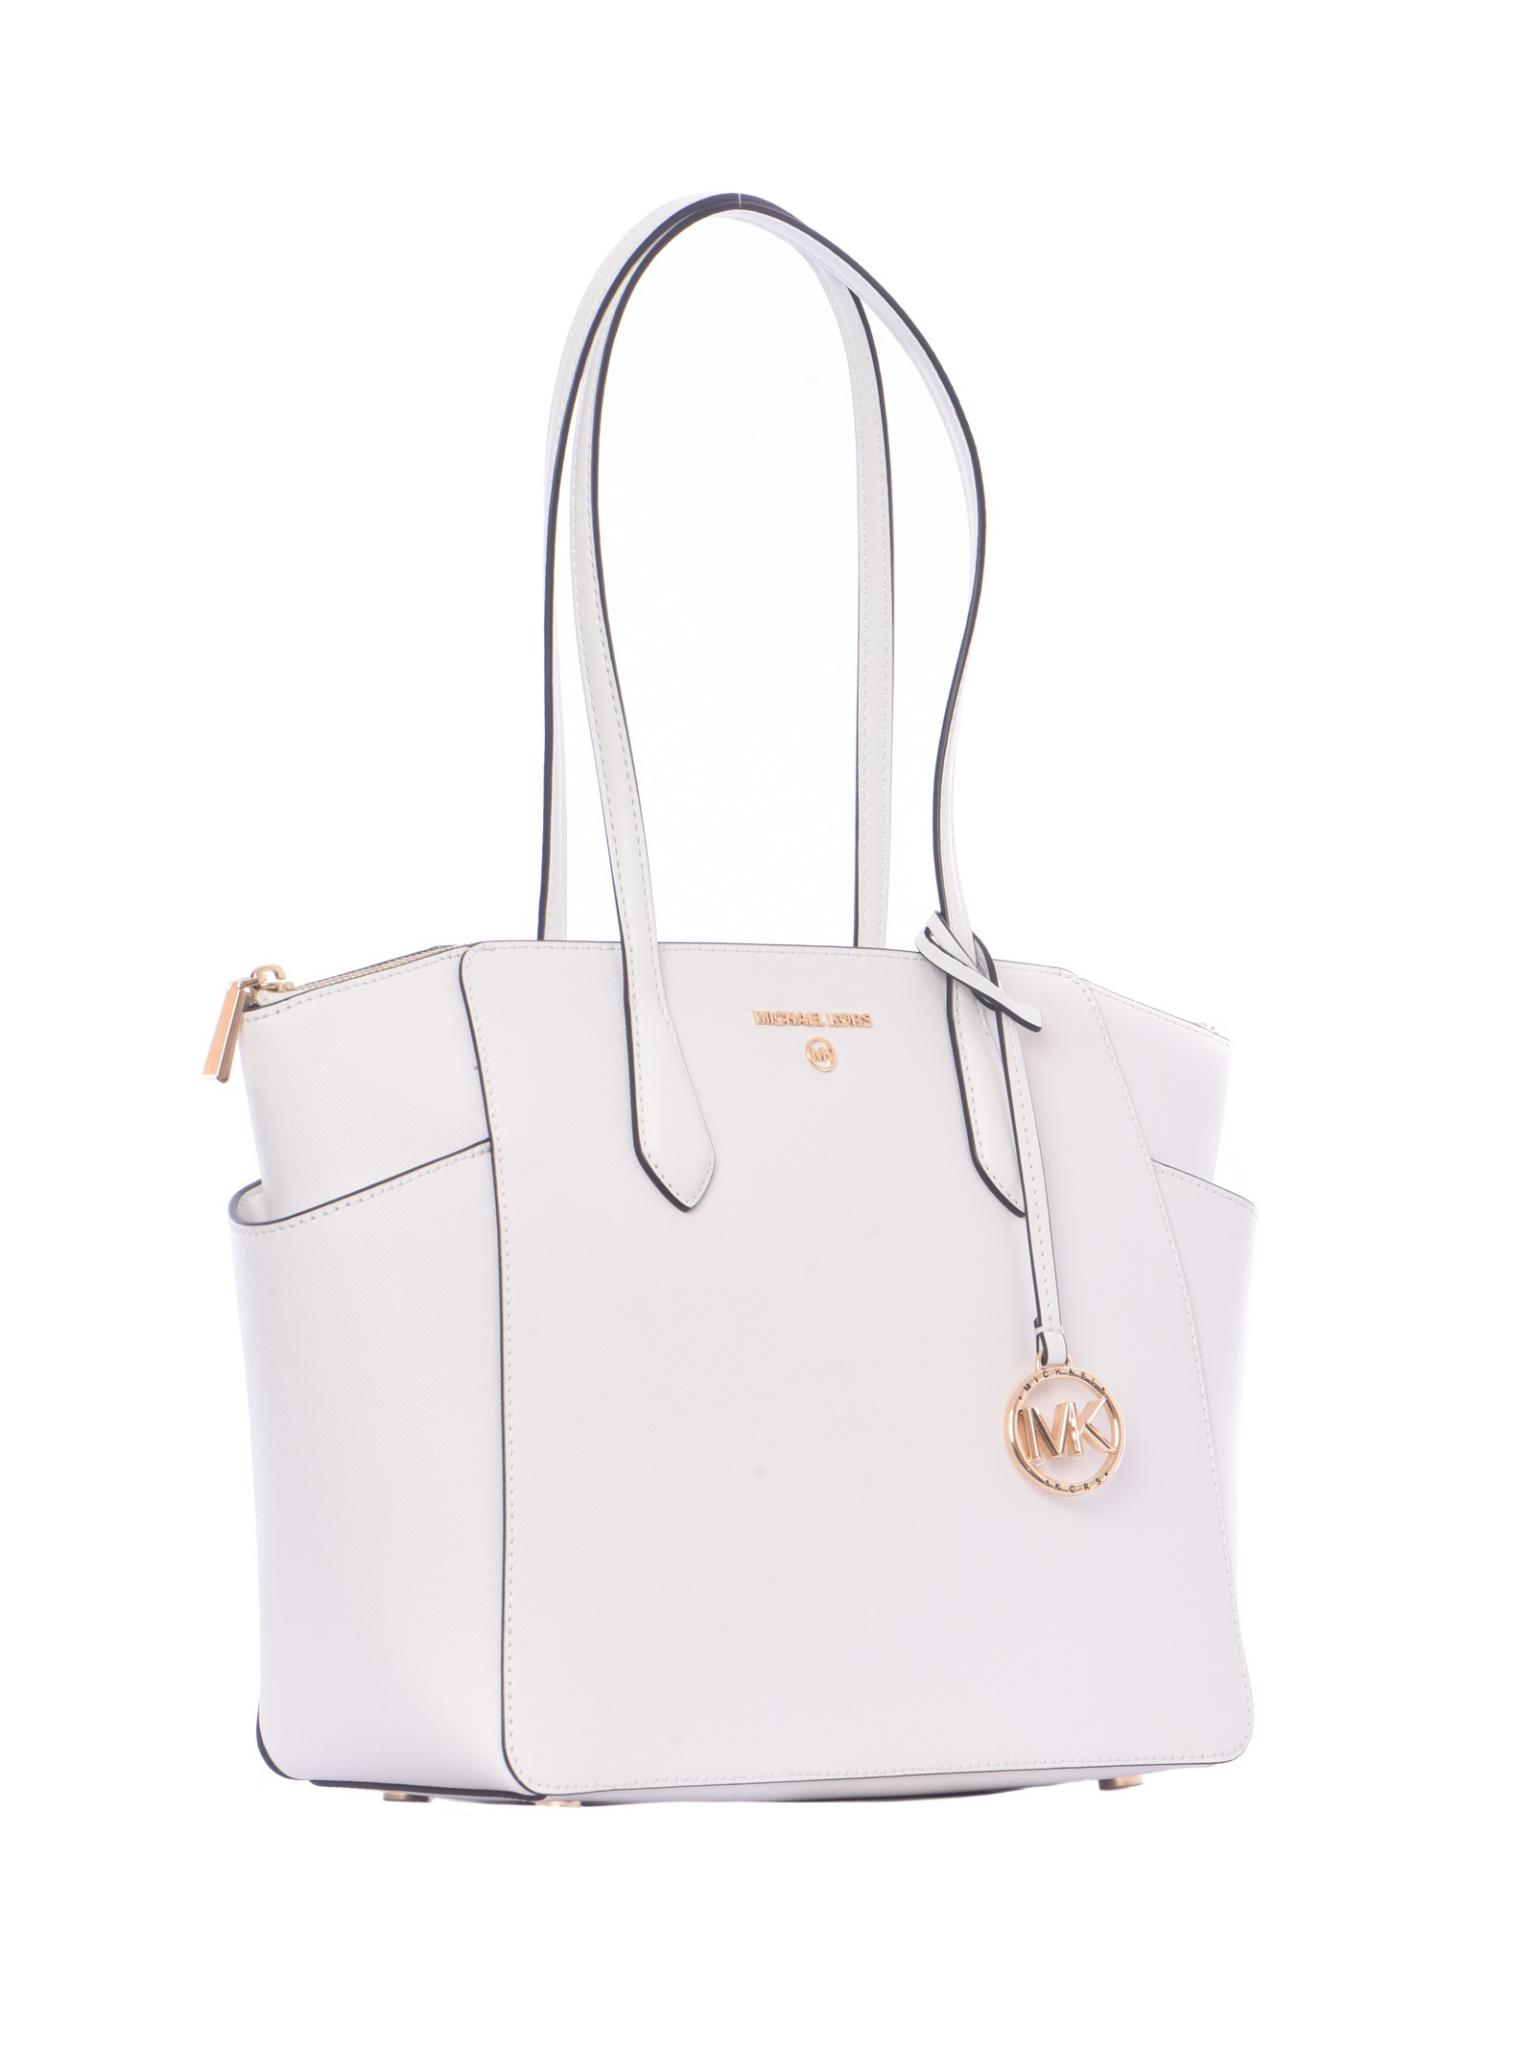MICHAEL-KORS: (751, 1009, 872, 1029)
